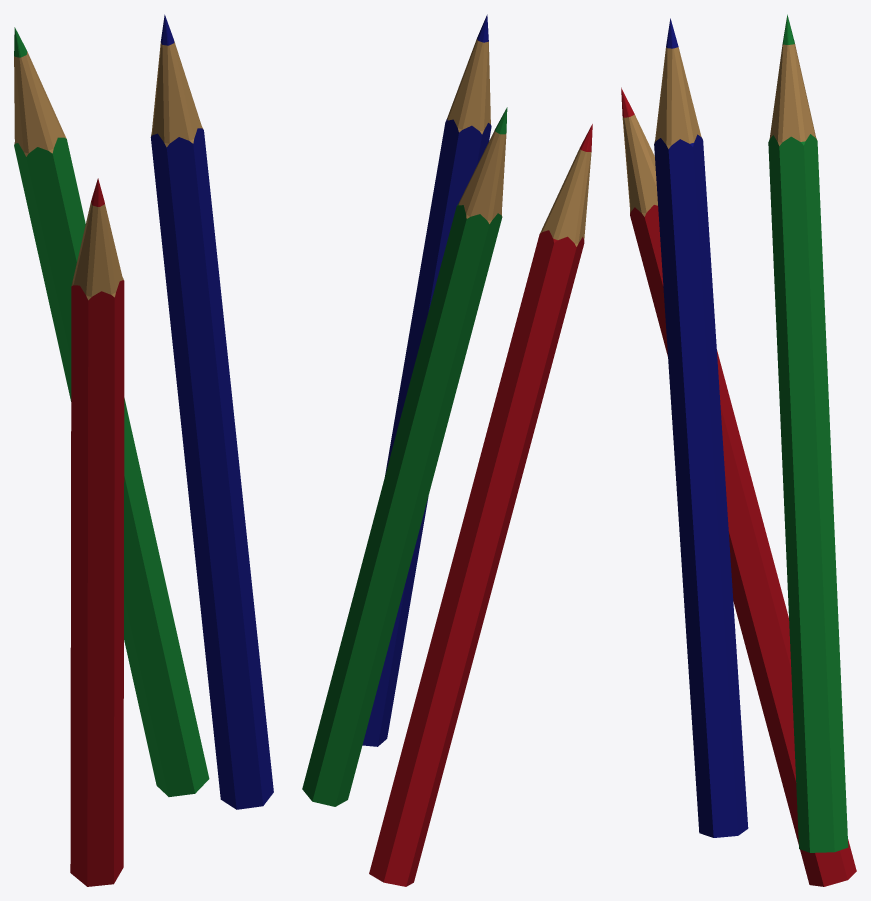
The model's file is pencils.glb.
The picture shows the model from 3 angles, left to right: view 1: azimuth 30°, elevation 25°; view 2: azimuth 150°, elevation 25°; view 3: azimuth 270°, elevation 25°; orthographic projection. The views are drawn at different scales.
Visible parts, largest first — view 1: Cylinder.001, Cylinder.003, Cylinder.004; view 2: Cylinder.003, Cylinder.004, Cylinder.001; view 3: Cylinder.004, Cylinder.001, Cylinder.003.
Part boxes in pixels (<box>): Cylinder.001: <box>150,14,273,809</box>; Cylinder.003: <box>70,178,124,886</box>; Cylinder.004: <box>14,27,209,796</box>; Cylinder.003: <box>369,124,592,886</box>; Cylinder.004: <box>302,107,507,806</box>; Cylinder.001: <box>362,14,491,746</box>; Cylinder.004: <box>768,14,848,852</box>; Cylinder.001: <box>654,18,748,837</box>; Cylinder.003: <box>621,87,856,886</box>.
Bounding box in the file's own units: 0.5761 × 2.23 × 0.5556.
